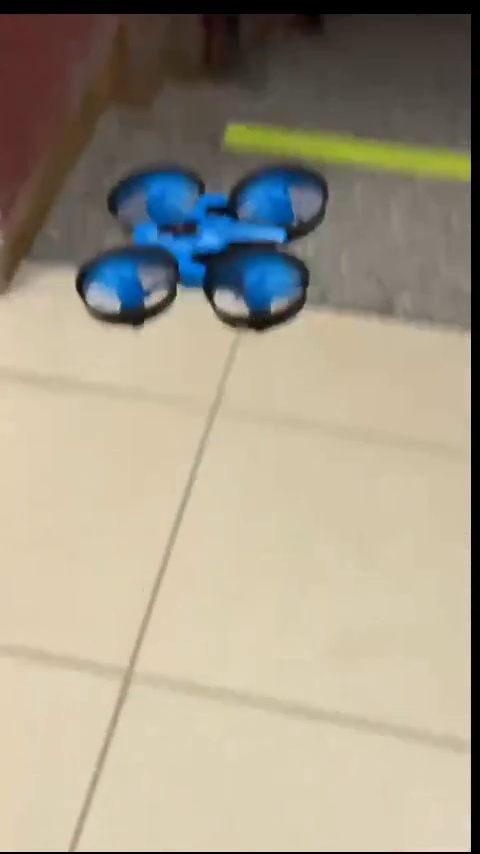drone: (80, 160, 331, 333)
